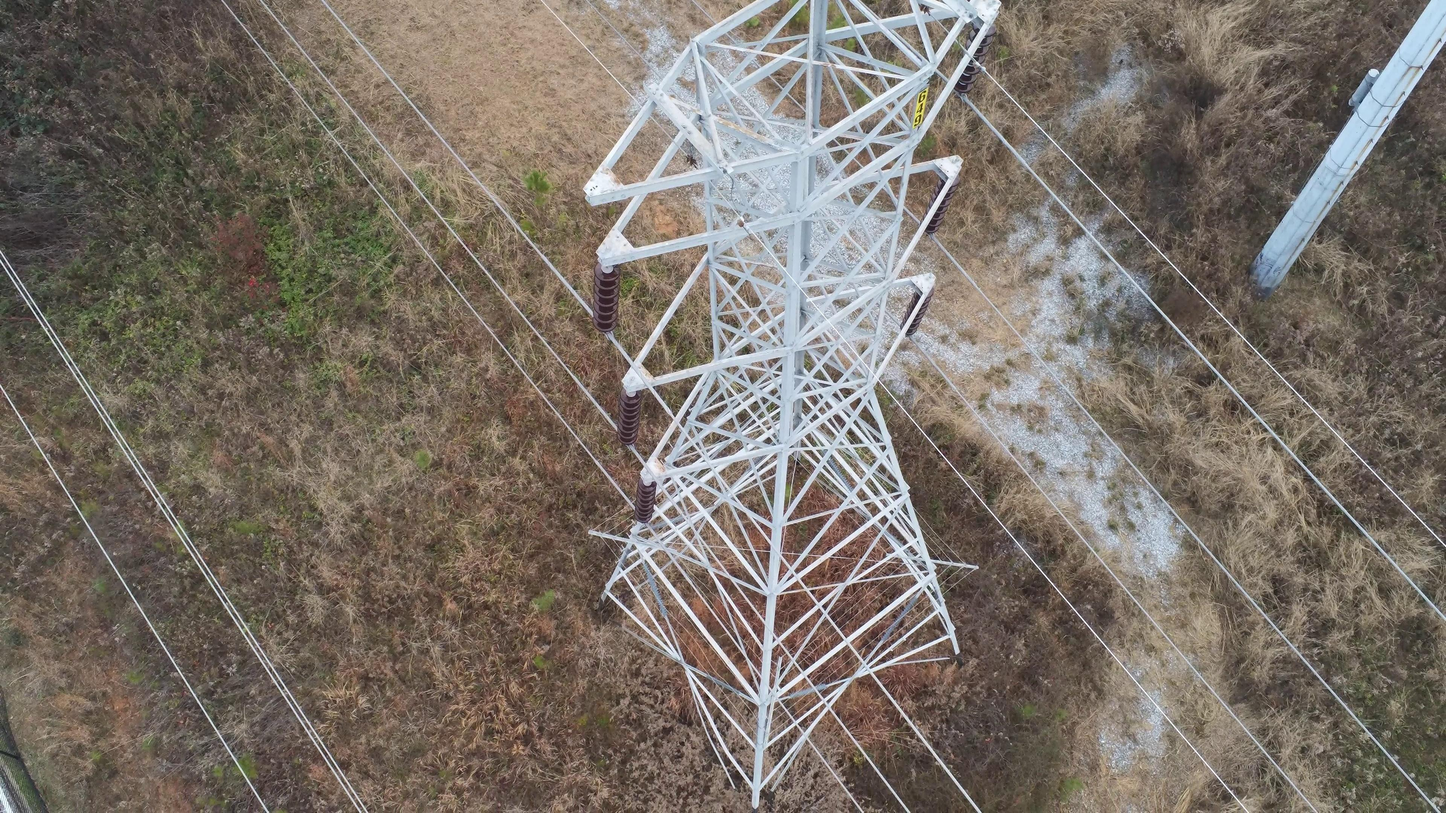power_tower: (582, 0, 1002, 810)
